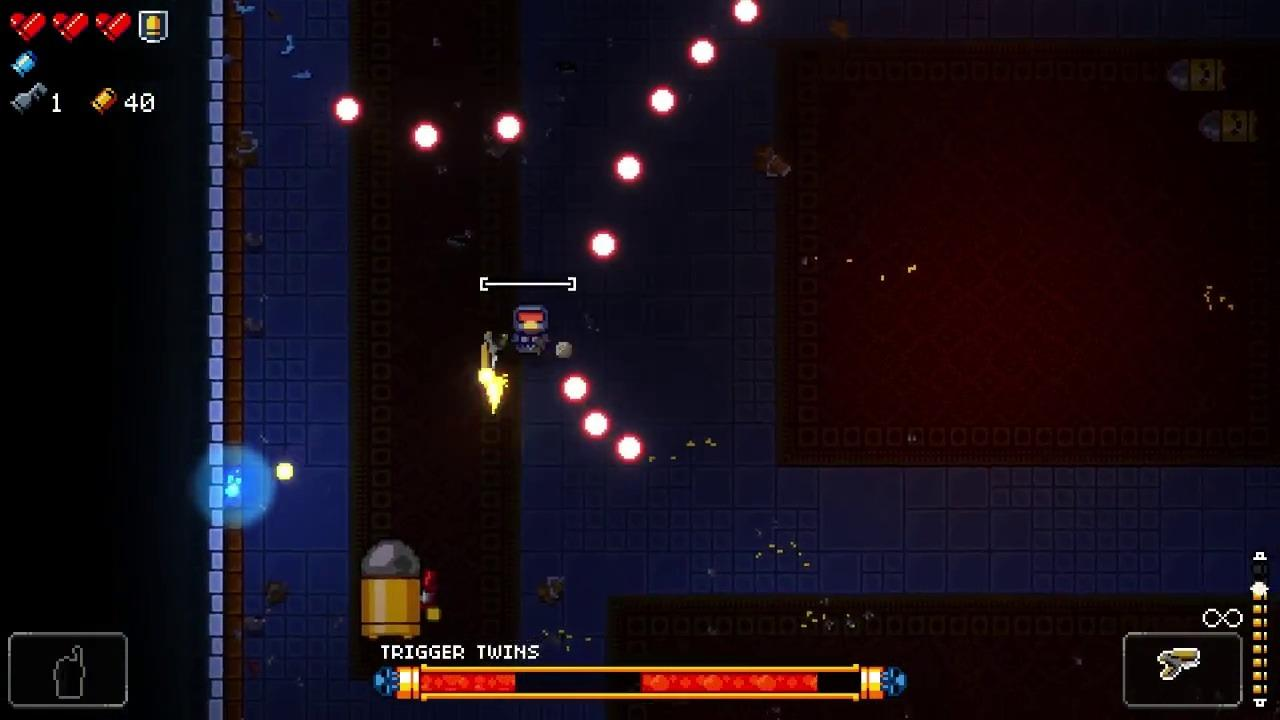boss_shades: (360, 542, 424, 640)
bullet: (612, 152, 645, 187), (588, 229, 622, 262), (687, 37, 719, 70), (561, 374, 592, 408), (493, 113, 525, 145), (330, 93, 363, 124), (410, 121, 441, 153), (614, 435, 644, 465), (732, 0, 764, 27), (647, 88, 679, 113), (585, 412, 612, 440)
dead_bullet_kin: (1201, 107, 1260, 144), (1168, 60, 1229, 93)
player: (513, 307, 551, 358)
